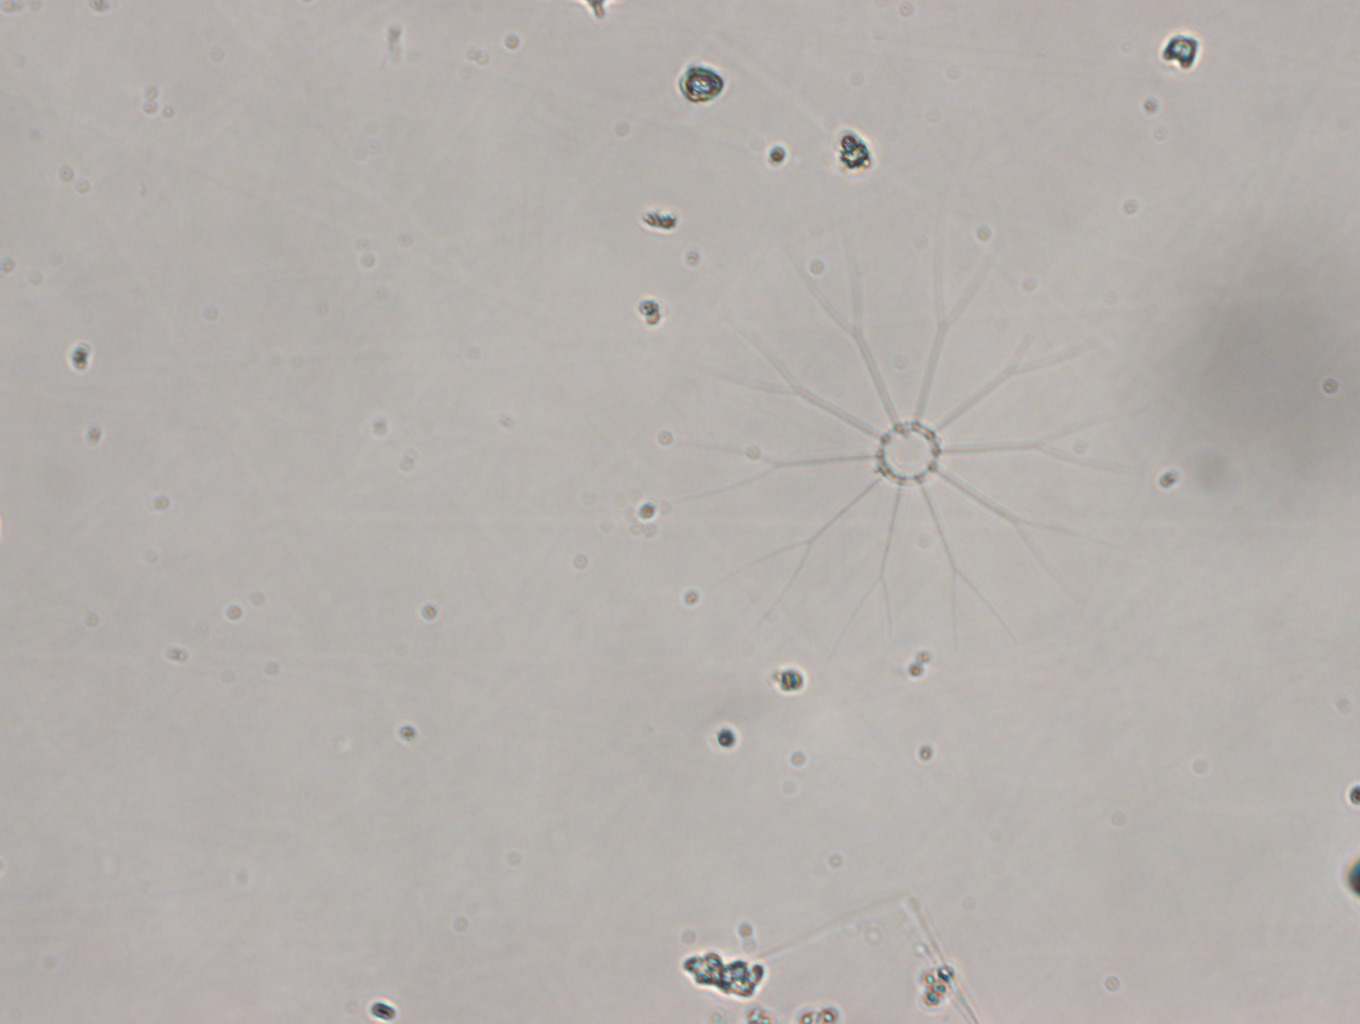bacteriastrum: (685, 225, 1146, 660)
